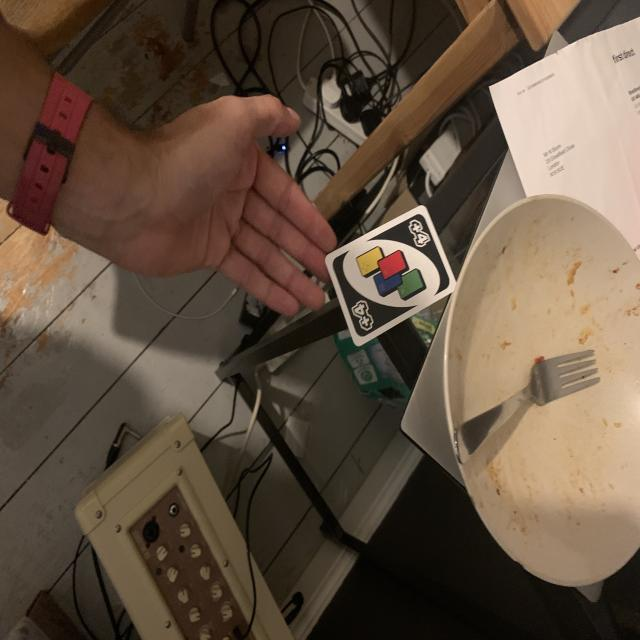lcolor-400: (403, 219, 433, 252)
